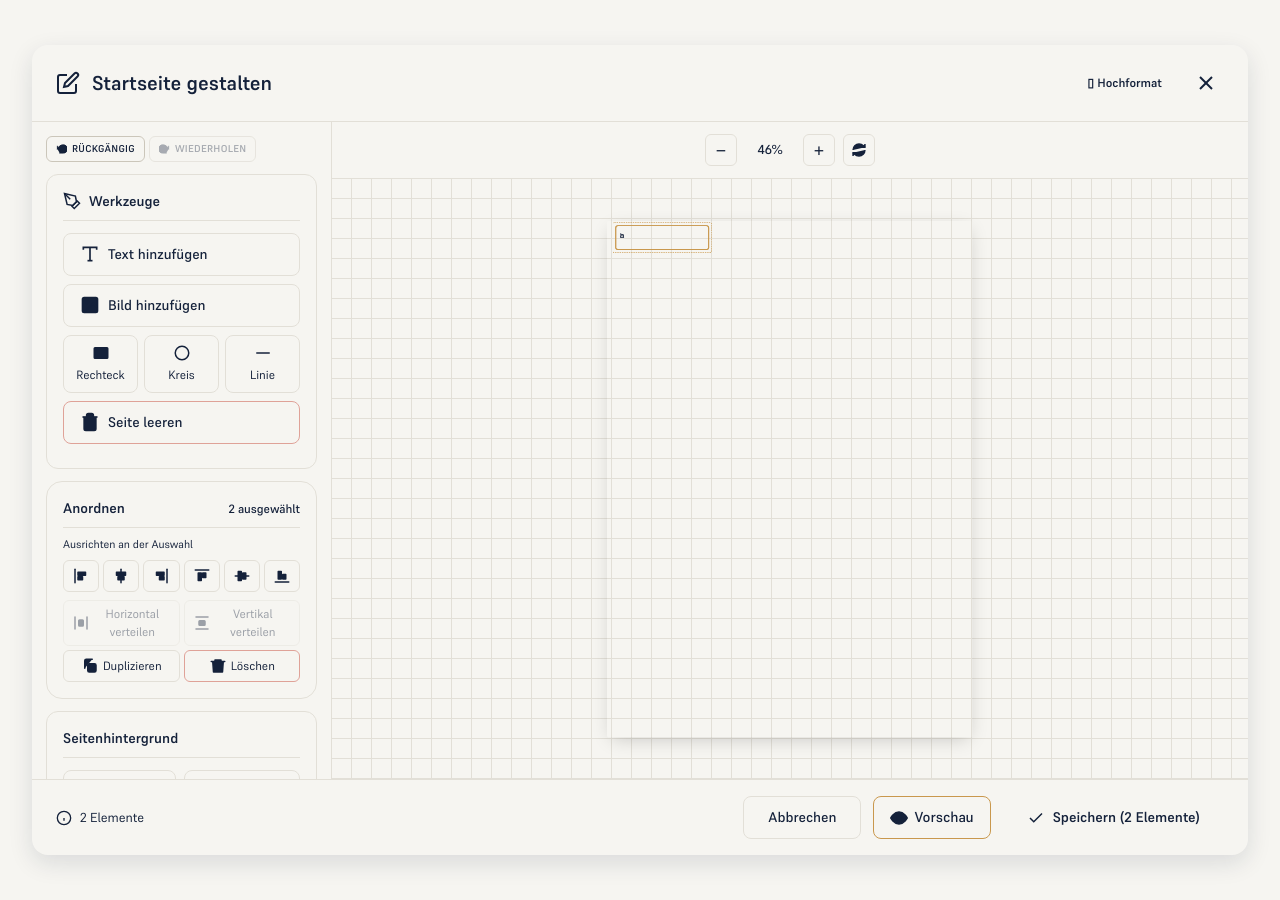
PdfPageDesigner › Pfeiltasten verschieben, Entf löscht die Mehrfachauswahl
Step 1. Click the button "Speichern (2 Elemente)" → (1113,818), box [1003,796,1224,839]
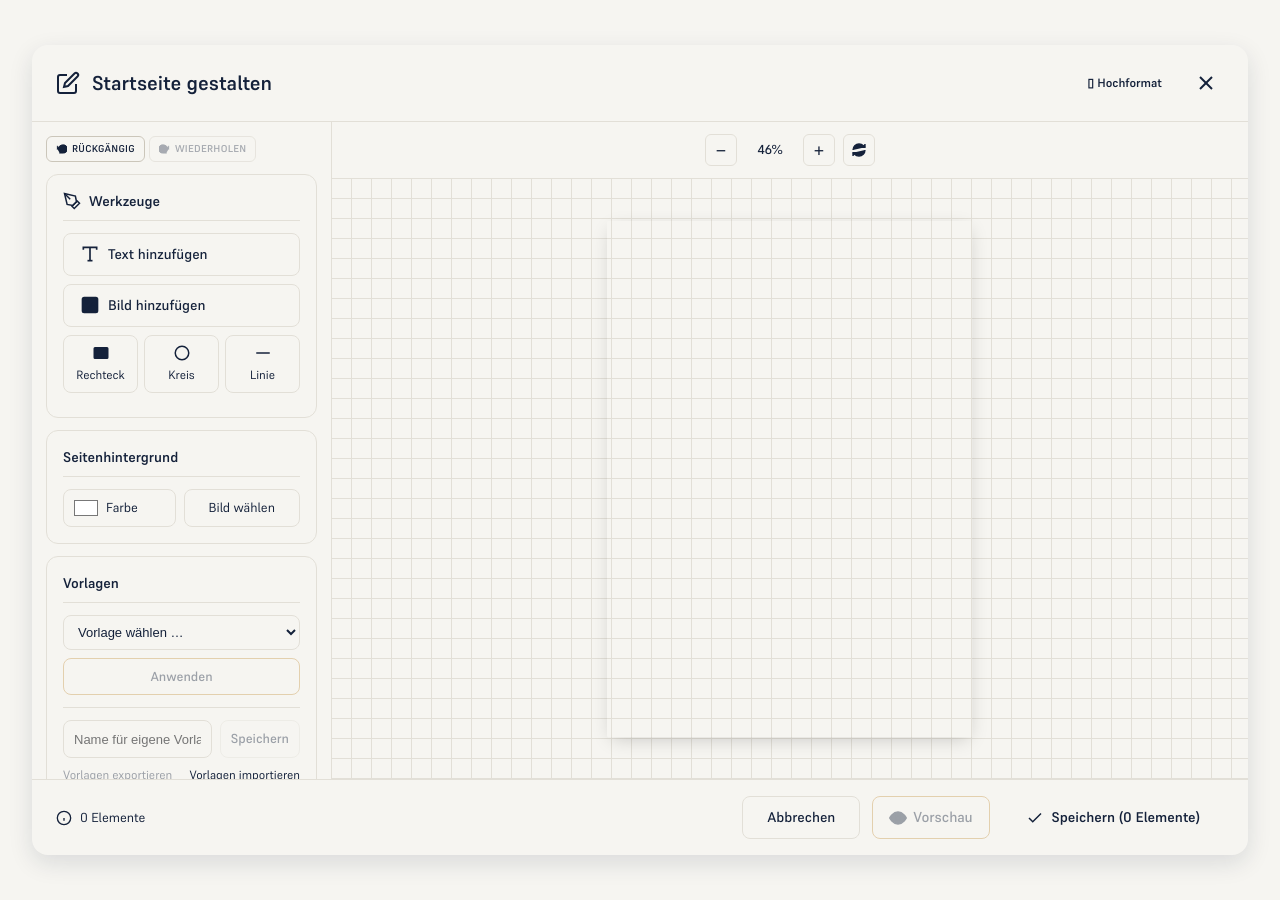
Expected: no elements with class "canvas-element" are shown
